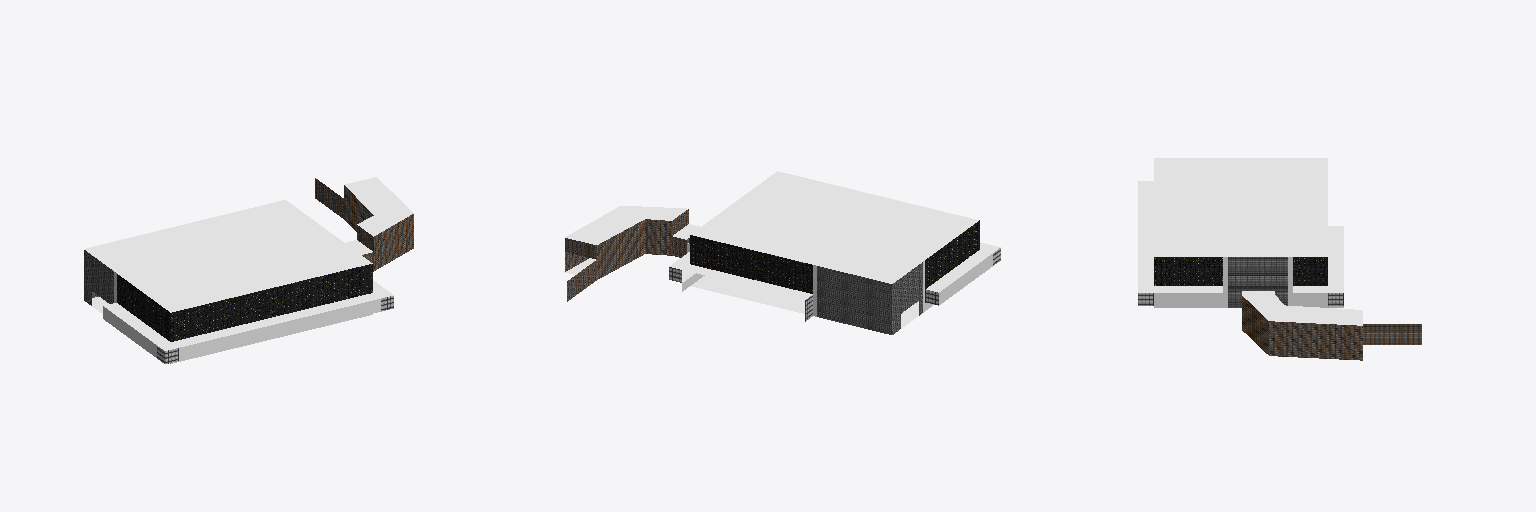
3 renders of one model, left to right at view 1: azimuth 30°, elevation 25°; view 2: azimuth 150°, elevation 25°; view 3: azimuth 270°, elevation 25°, orthographic.
Visible parts, largest first — view 1: l1_geo03; view 2: l1_geo03; view 3: l1_geo03.
Part boxes in pixels (left/top/right/bottom): l1_geo03: left=84, top=177, right=413, bottom=363; l1_geo03: left=565, top=171, right=1000, bottom=334; l1_geo03: left=1138, top=158, right=1421, bottom=360.
Bounding box in the file's own units: 77.75 × 11.75 × 59.
31 materials, 4 textured.